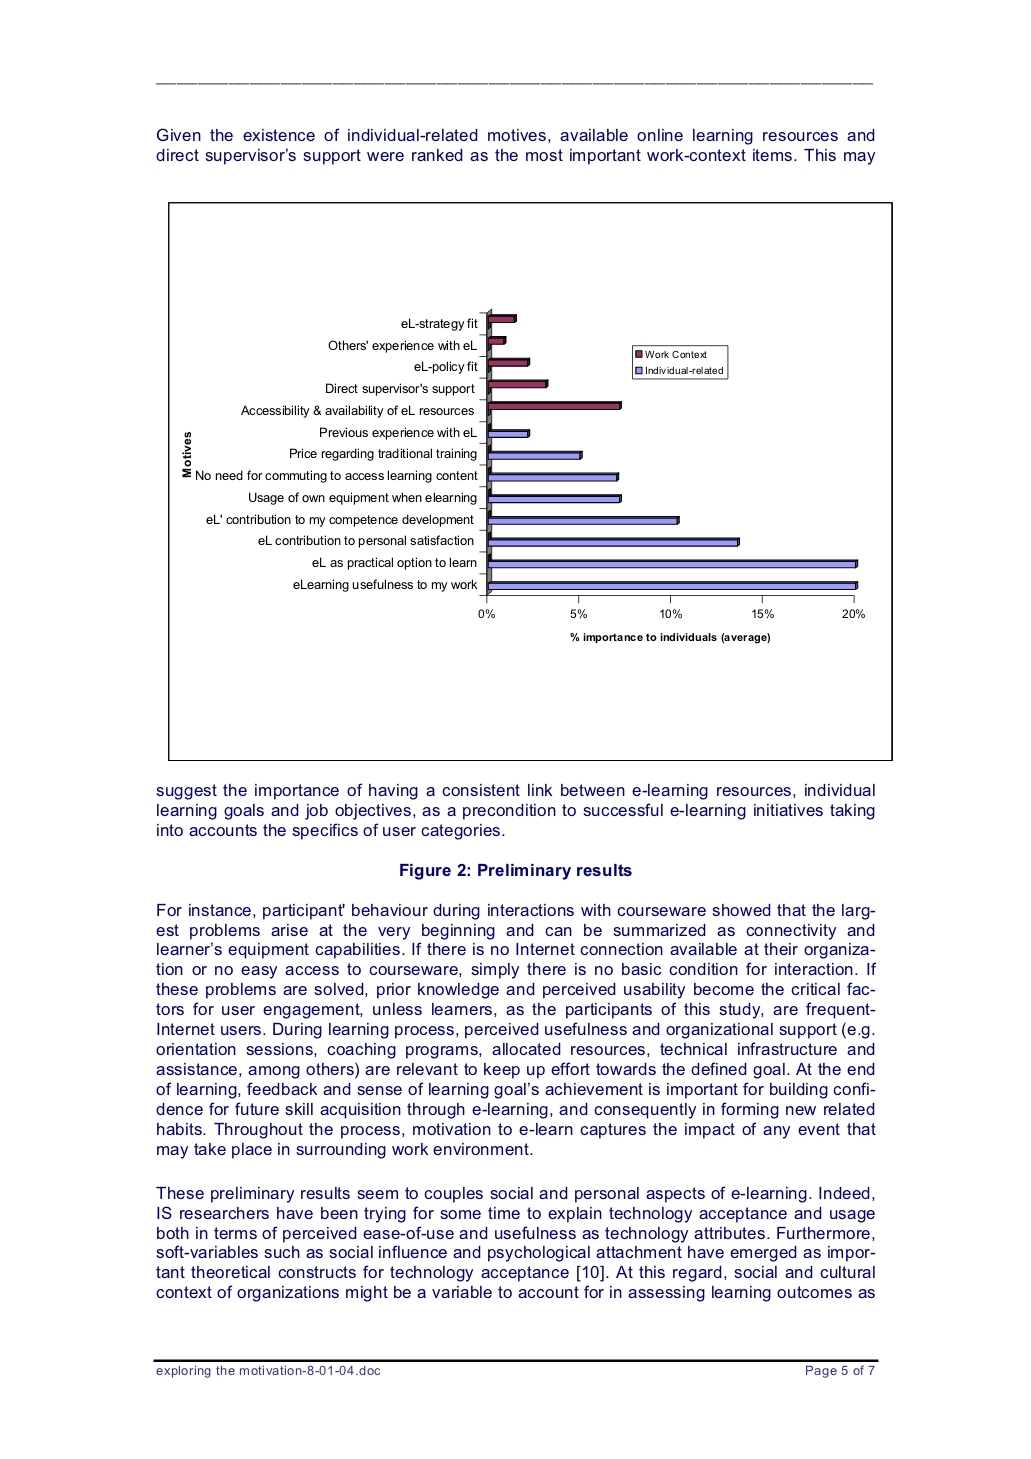figure: (182, 308, 864, 642), (155, 83, 873, 85)
